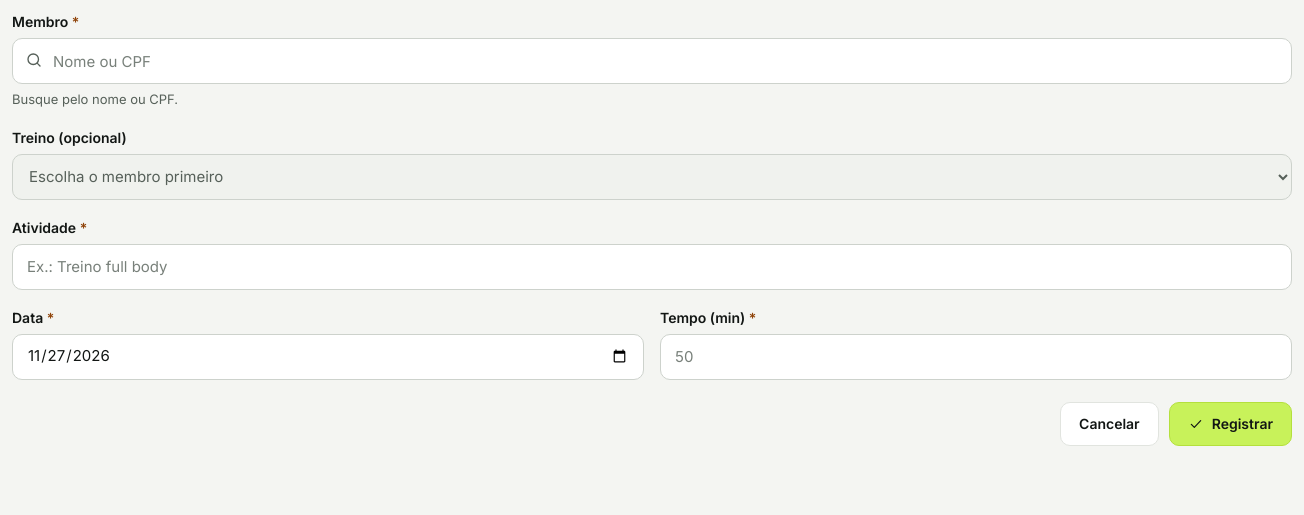
Test case: FormAtividade › com tempo 700 mostra a mensagem da API junto com os outros erros
Type "700" into the number field labelled "Tempo (min)".
click(976, 356); type("700")  # box [660,334,1292,380]
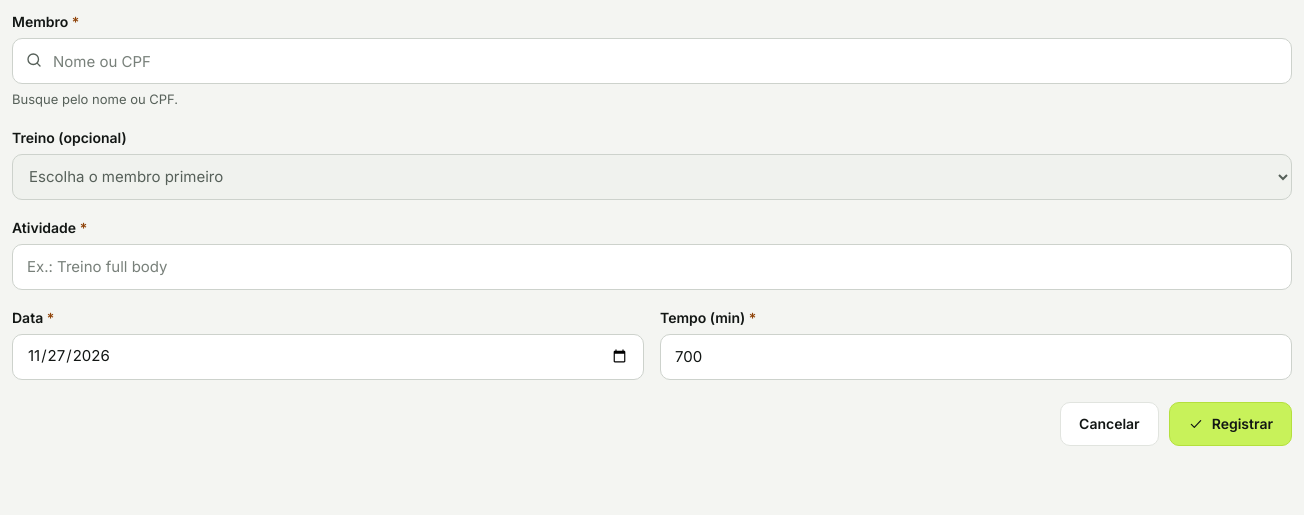
Click the button "Registrar".
click(1230, 424)  # box [1169,402,1292,446]
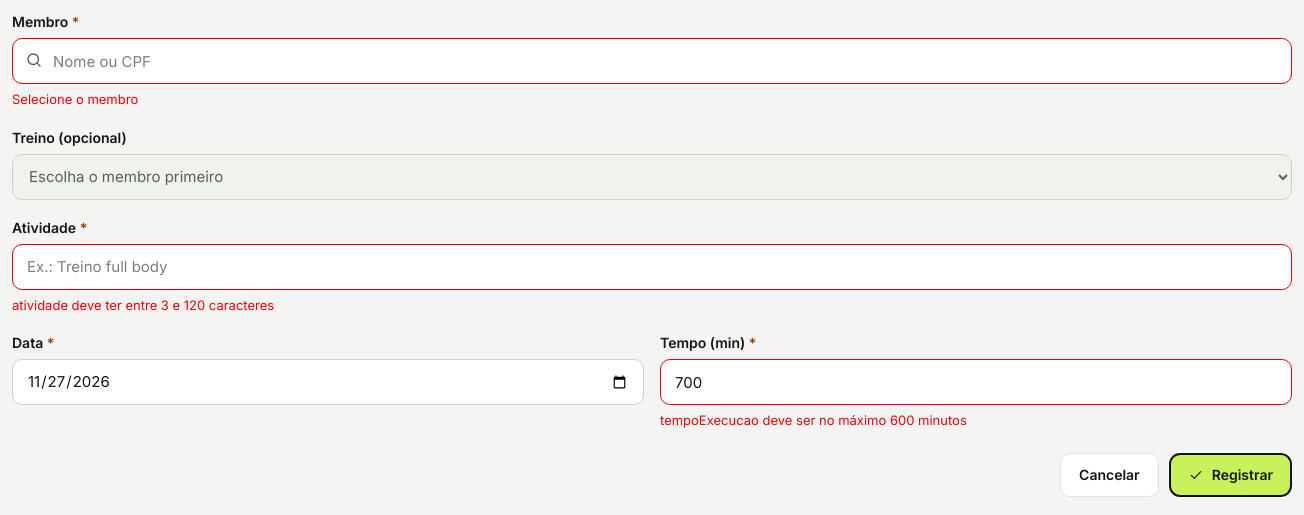
Result: the text "tempoExecucao deve ser no máximo 600 minutos" is shown at [660,412,967,428]
Result: the text "Selecione o membro" is shown at [12,91,138,107]
